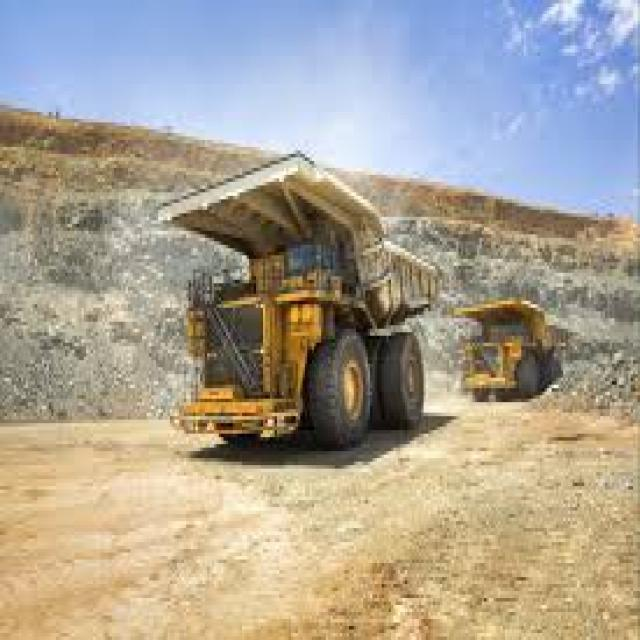dump_truck: (132, 136, 438, 452), (447, 276, 591, 427)
